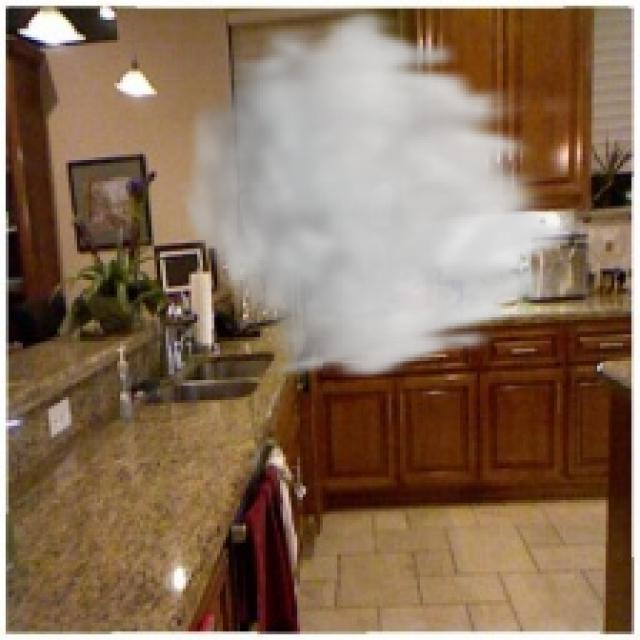smoke: (174, 3, 589, 383)
